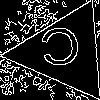C: (39, 27, 83, 75)
